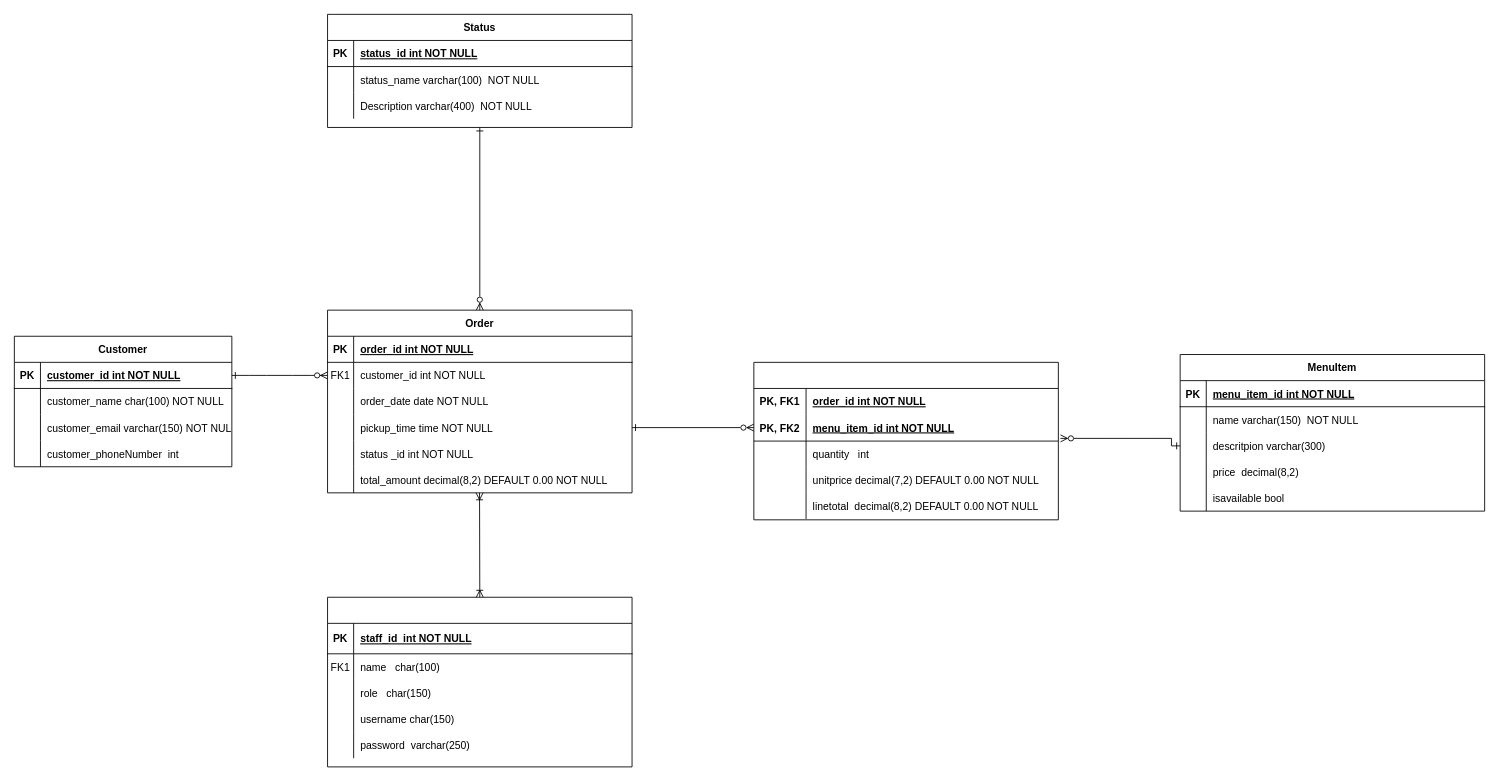
This 1499x781 diagram has some shape labels left out. The box of each missing label's shape, as (x1, y1, x2, y2) in pixels:
OrderItem: (753, 361, 1058, 520)
Staff User: (327, 596, 632, 767)
